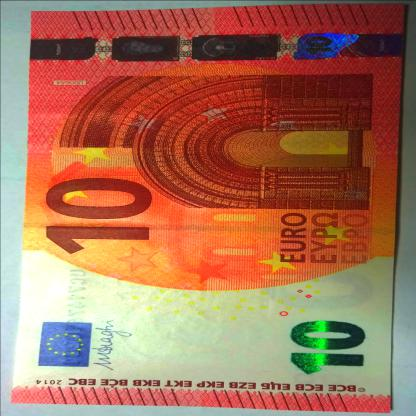euro_banknote: (7, 13, 411, 402)
